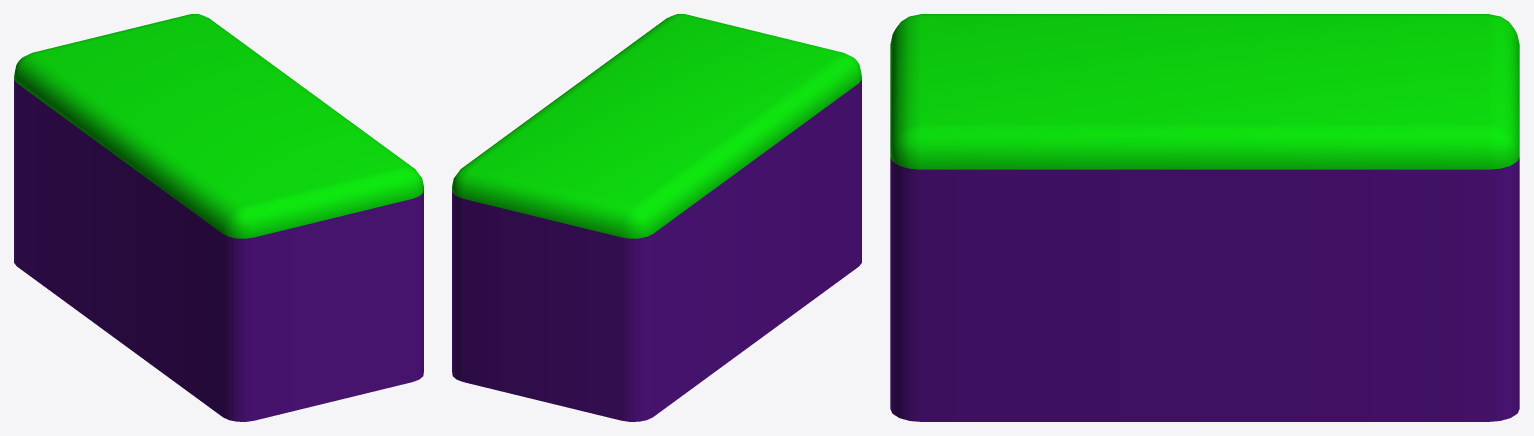
3 renders of one model, left to right at view 1: azimuth 30°, elevation 25°; view 2: azimuth 150°, elevation 25°; view 3: azimuth 270°, elevation 25°, orthographic. The views are drawn at different scales.
Visible parts, largest first — view 1: Cube; view 2: Cube; view 3: Cube.
Part boxes in pixels (left/top/right/bottom): Cube: left=14, top=14, right=423, bottom=421; Cube: left=452, top=14, right=861, bottom=421; Cube: left=890, top=14, right=1519, bottom=421.
Bounding box in the file's own units: 20 × 20 × 40.
